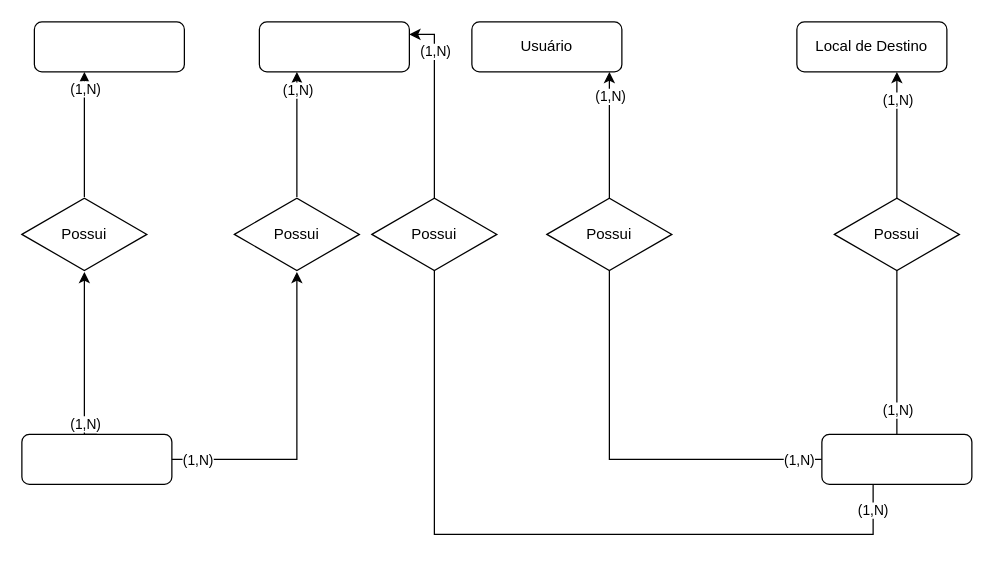
Image size: 994x566. Some labels were removed from this diagram. Here are the shapes that lost their labels. From the top down, the centre of each, then its label:
At point (108, 46): "Fornecedores".
At point (333, 46): "Produtos".
At point (96, 458): "Entrada de produtos".
At point (896, 458): "Saída de produtos".
